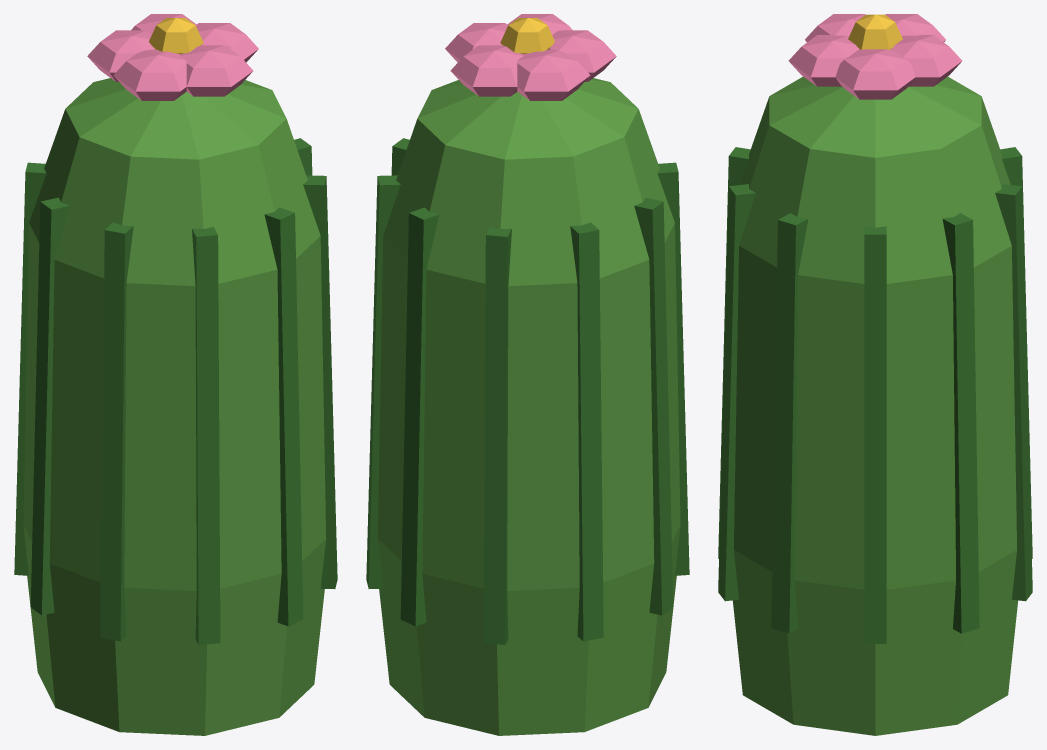
Rendered from map3_cactus_flower_v01.glb.
The picture shows the model from 3 angles, left to right: view 1: azimuth 30°, elevation 25°; view 2: azimuth 150°, elevation 25°; view 3: azimuth 270°, elevation 25°; orthographic projection.
Parts seen in each view (by area): view 1: cactus; view 2: cactus; view 3: cactus.
Part boxes in pixels (x1=…): cactus: x1=14, y1=14, x2=337, y2=735; cactus: x1=366, y1=14, x2=689, y2=735; cactus: x1=718, y1=14, x2=1032, y2=735.
Size of the model in its own units: 0.58 by 1.31 by 0.564.
